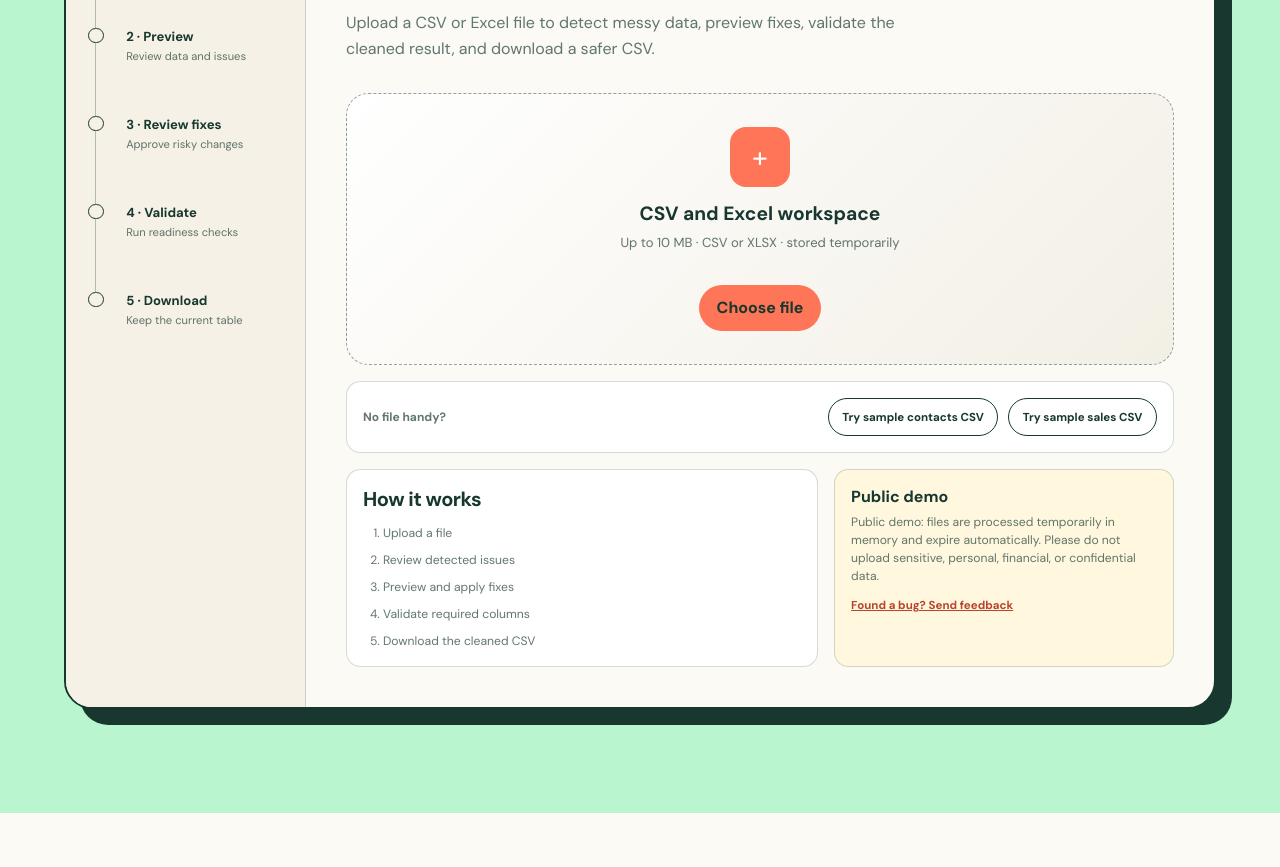
Scenario: CleanMyFilePage › loads a sample contacts CSV through the existing upload flow
(page scrolled)
Click the button "Try sample contacts CSV": (913, 417) [828, 398, 998, 436]
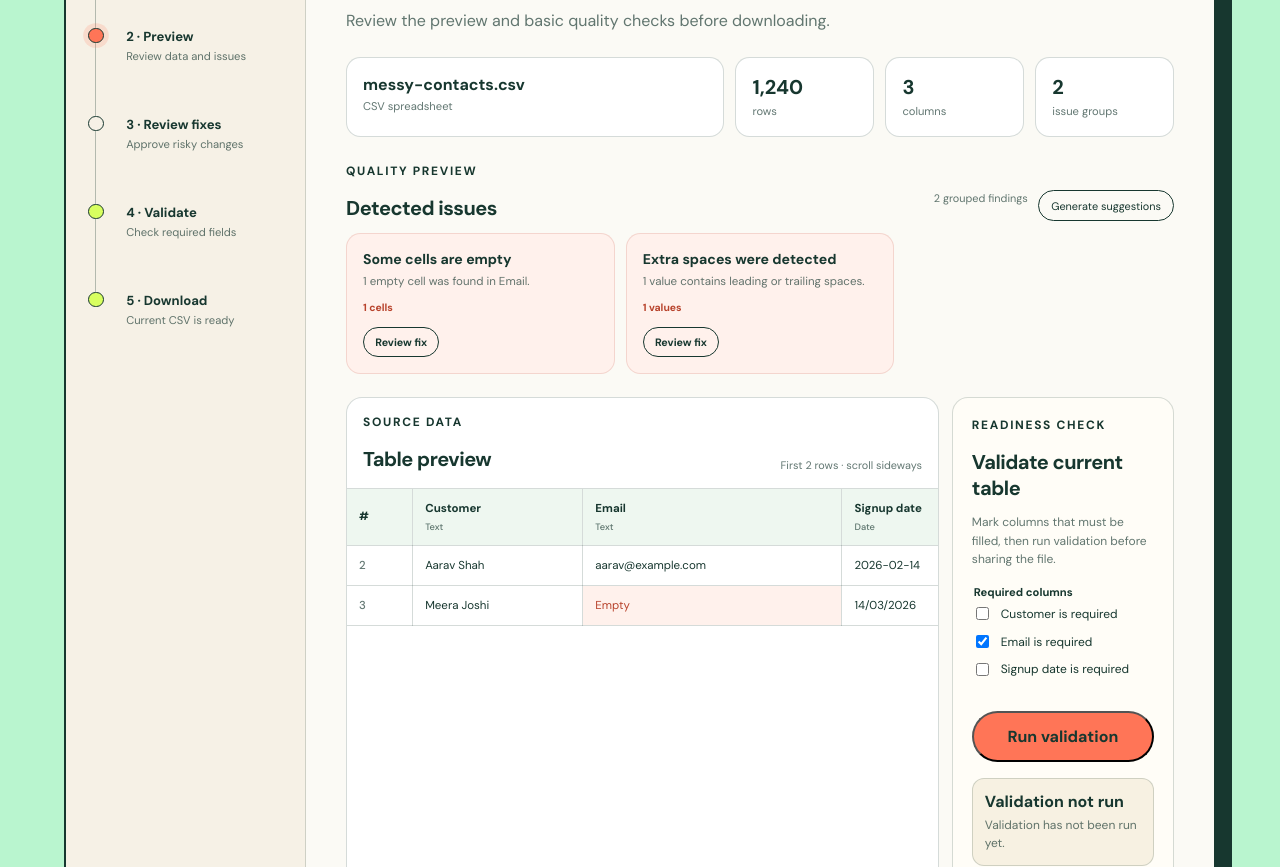
Expected: the text "messy-contacts.csv" is shown, [363, 74, 525, 95]
